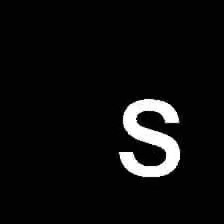LTR_S: (111, 91, 185, 180)
